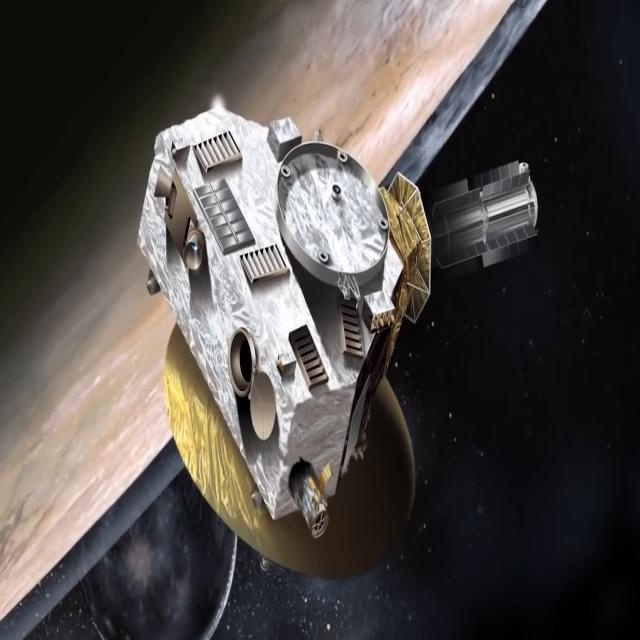medium_debris: (131, 88, 538, 597)
